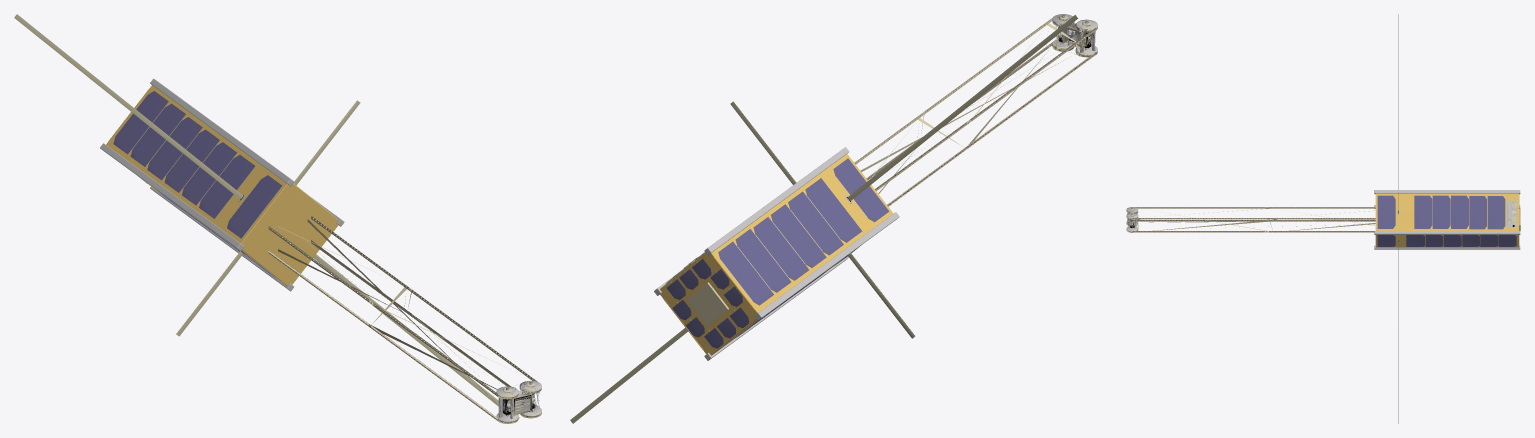
File: firefly.glb
3 views of the same model, side by side, from view 1: azimuth 30°, elevation 25°; view 2: azimuth 150°, elevation 25°; view 3: azimuth 270°, elevation 25° (orthographic). The views are drawn at different scales.
Parts seen in each view (by area): view 1: imagetostl_mesh0; view 2: imagetostl_mesh0; view 3: imagetostl_mesh0.
Boxes of the visible parts, x1,y1,x2,y2 form: imagetostl_mesh0: [14, 14, 541, 423]; imagetostl_mesh0: [570, 14, 1097, 423]; imagetostl_mesh0: [1126, 14, 1520, 423].
Bounding box in the file's own units: 13.91 × 13.91 × 17.7.
1 material, 1 textured.
